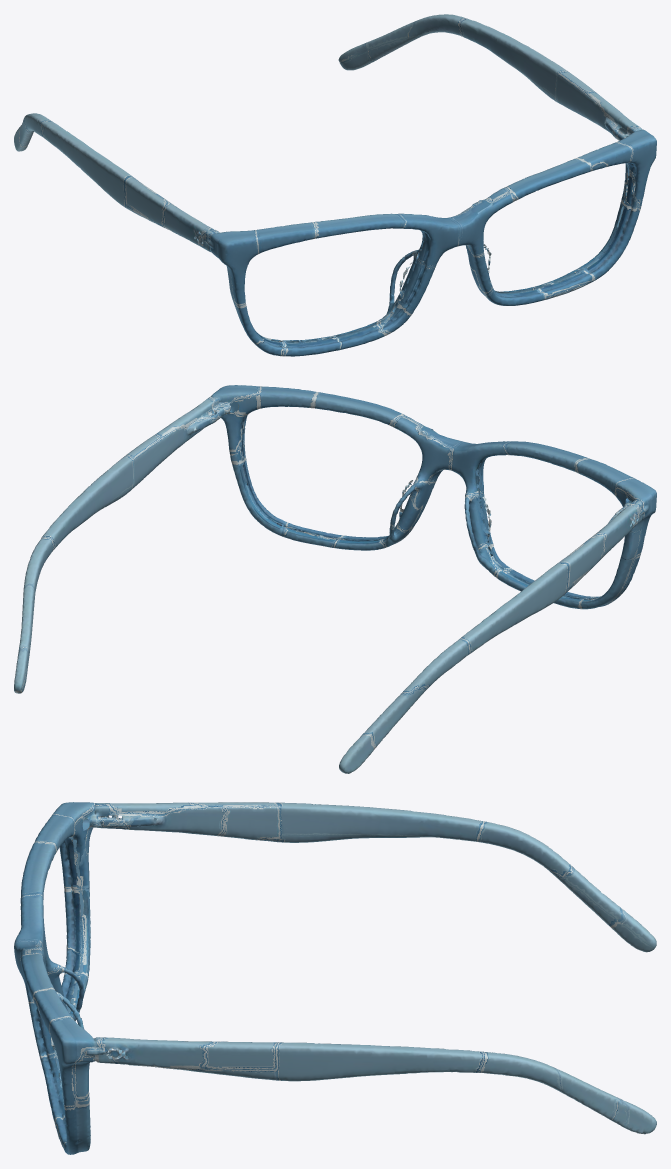
The model's file is blue-eyeglasses.glb.
3 renders of one model, top to bottom at view 1: azimuth 30°, elevation 25°; view 2: azimuth 150°, elevation 25°; view 3: azimuth 270°, elevation 25°, orthographic. The views are drawn at different scales.
Parts seen in each view (by area): view 1: Node1; view 2: Node1; view 3: Node1.
Boxes of the visible parts, left/top/right/bottom form: Node1: left=14, top=14, right=656, bottom=356; Node1: left=14, top=385, right=656, bottom=773; Node1: left=14, top=802, right=656, bottom=1154.
Bounding box in the file's own units: 0.8844 × 0.2609 × 0.9788.
1 material, 1 textured.
